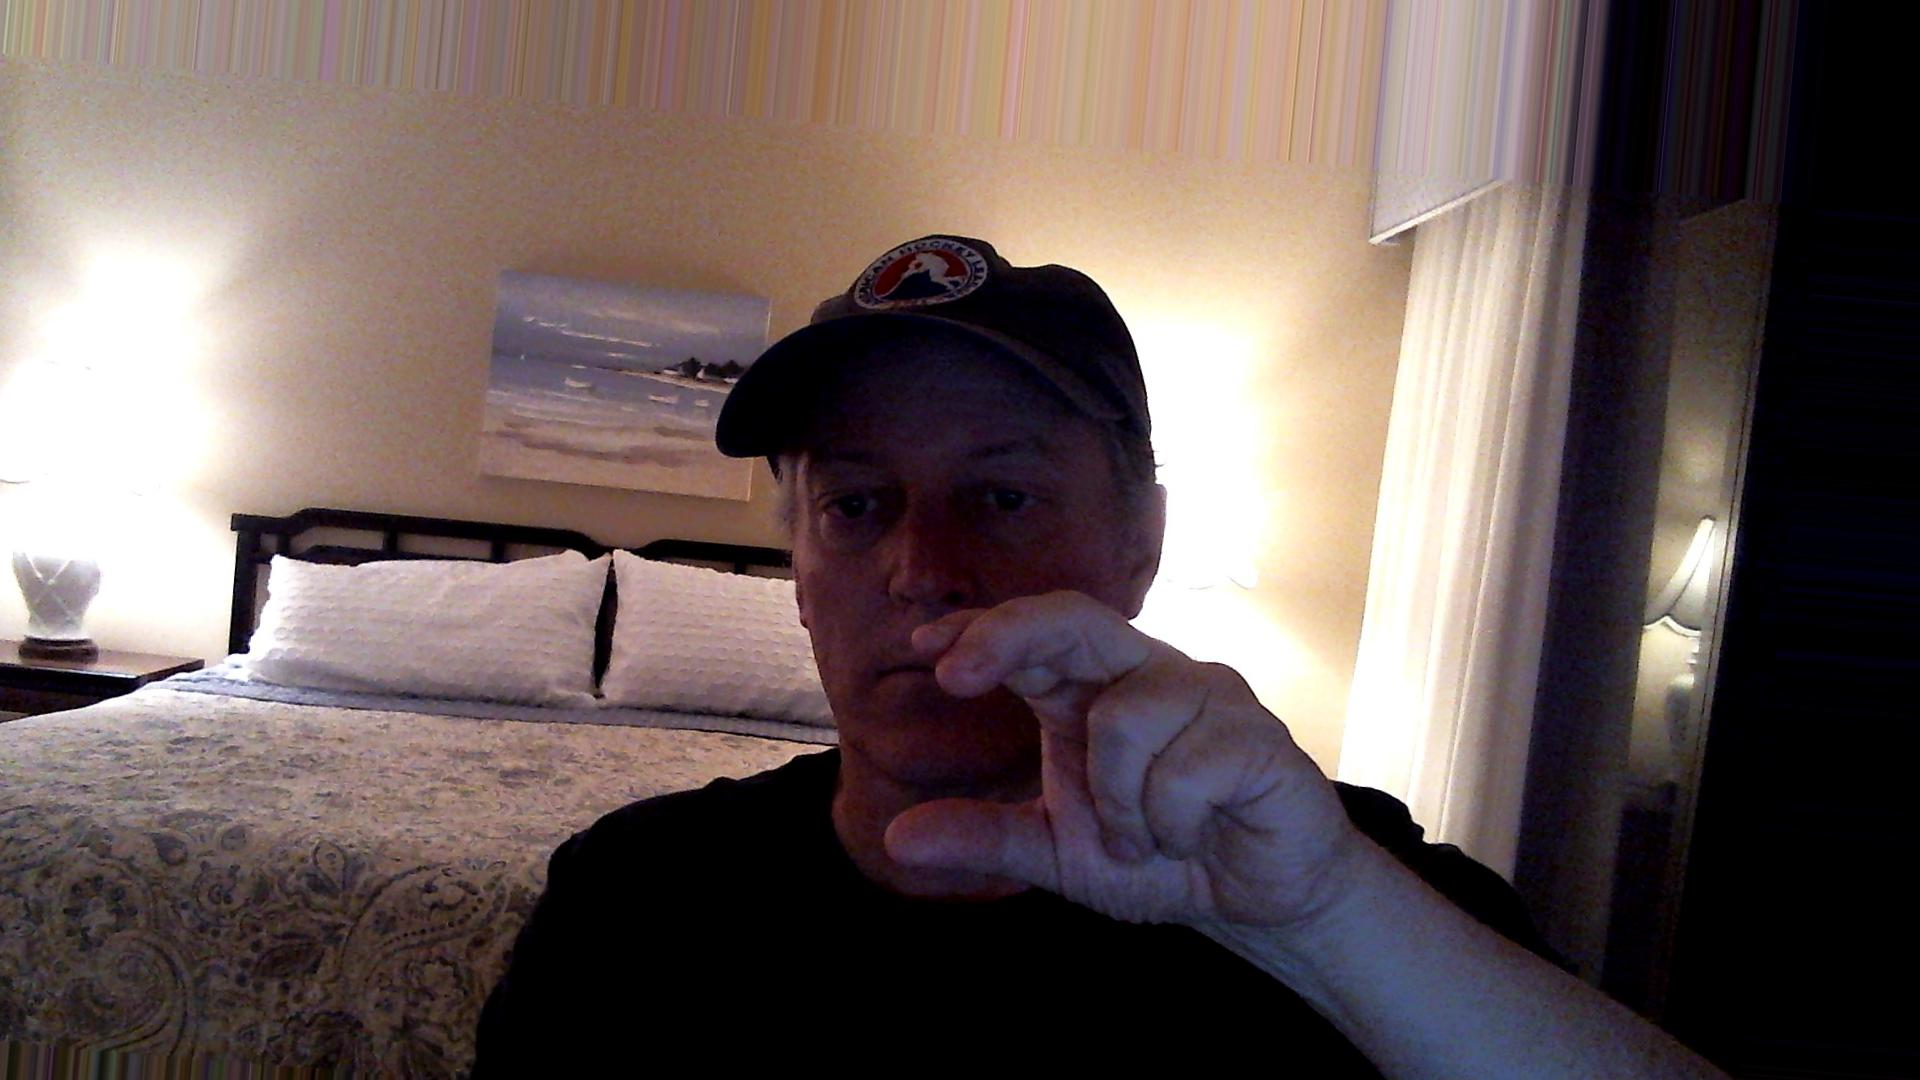No: (880, 585, 1379, 977)
